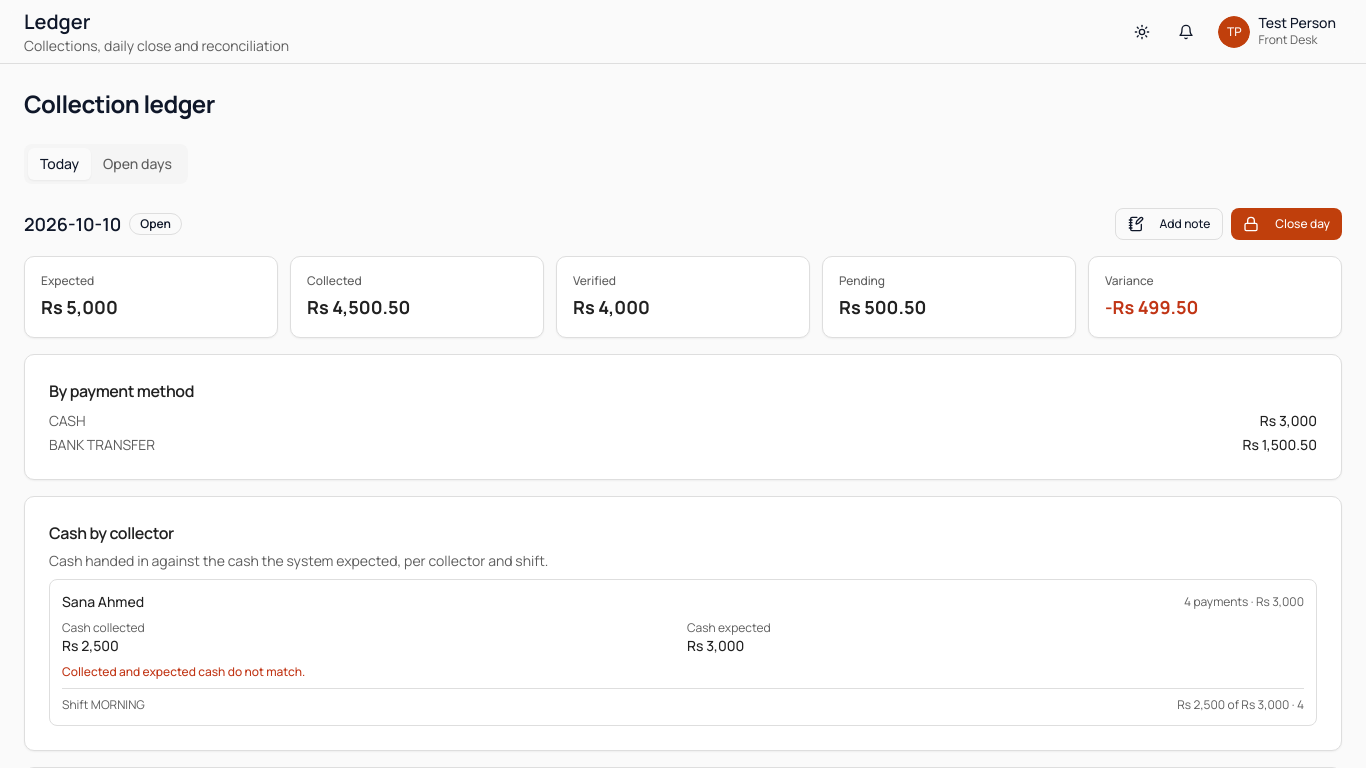
Test case: Ledger page › a refused close shows the server’s message in the dialog
The image size is (1366, 768).
Step 1. Click the button "Close day" → {"x": 1287, "y": 224}, box [1231, 208, 1342, 240]
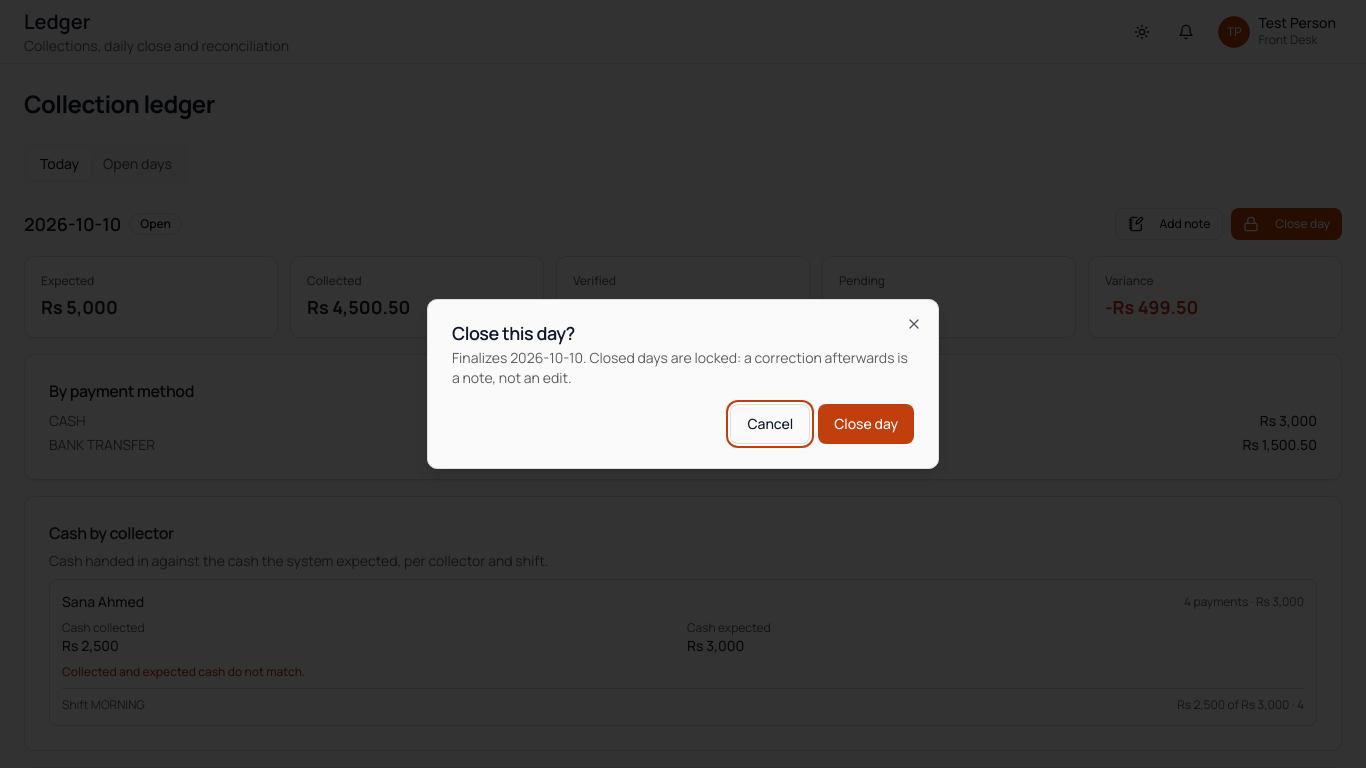
Step 2. Click the button "Close day" → {"x": 866, "y": 424}, box [818, 404, 914, 444]
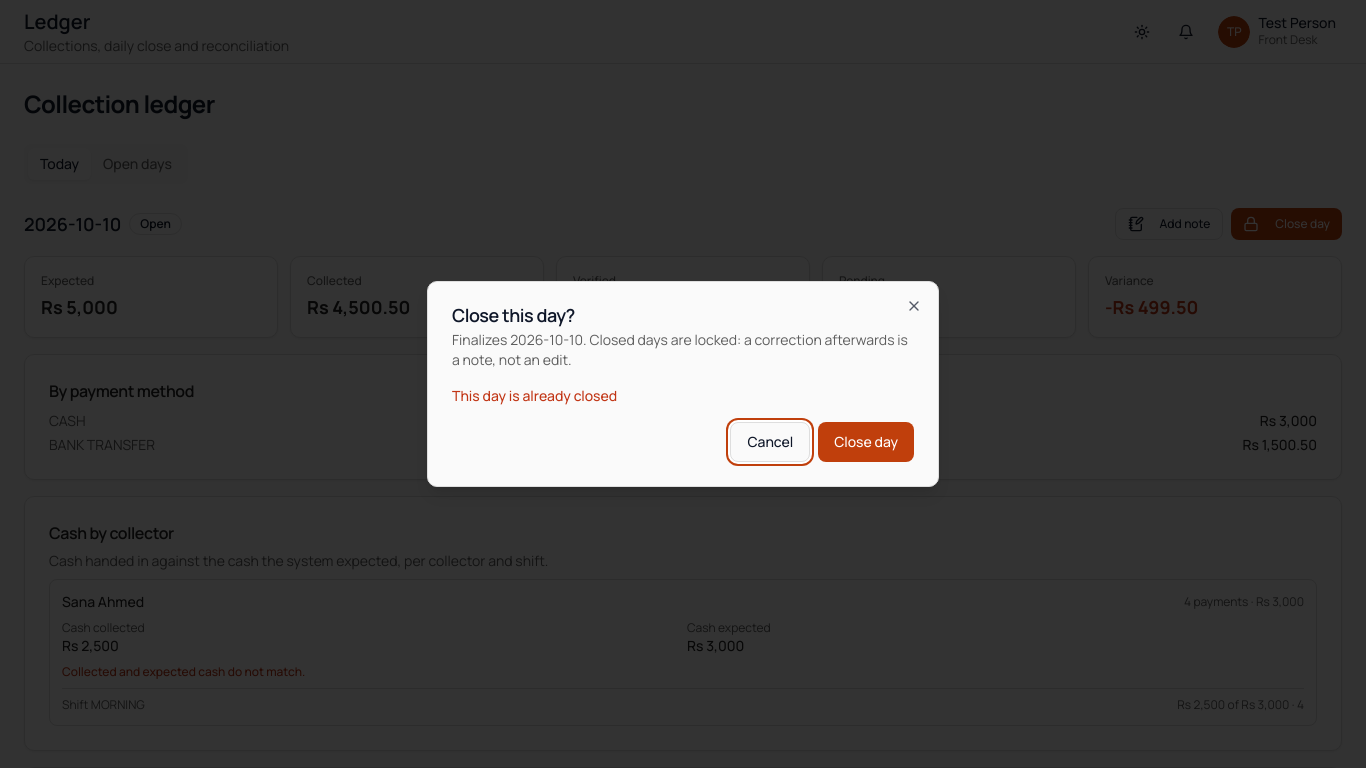
Expected: the text "This day is already closed" is shown, [452, 386, 617, 405]
